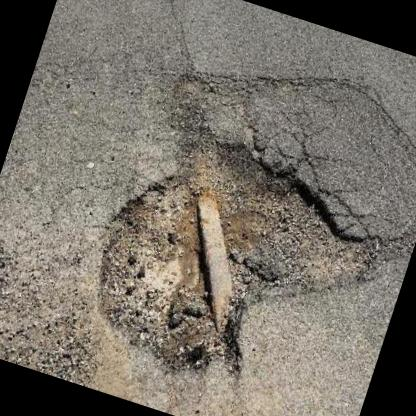pothole: (66, 105, 401, 416)
